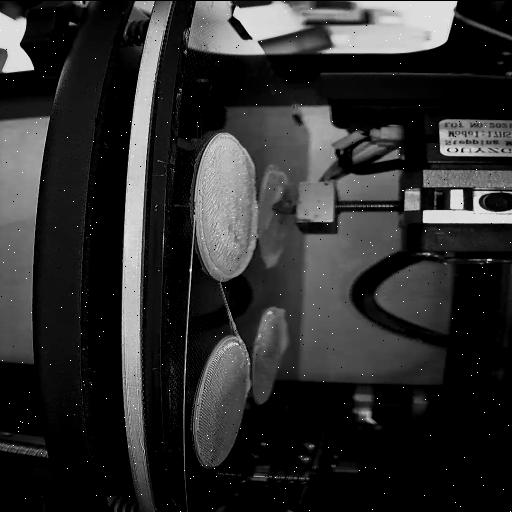over_extrusion: (194, 198, 260, 280), (262, 304, 292, 354), (239, 146, 256, 180), (258, 166, 294, 182), (262, 210, 276, 230), (242, 373, 254, 393), (274, 184, 288, 200)
